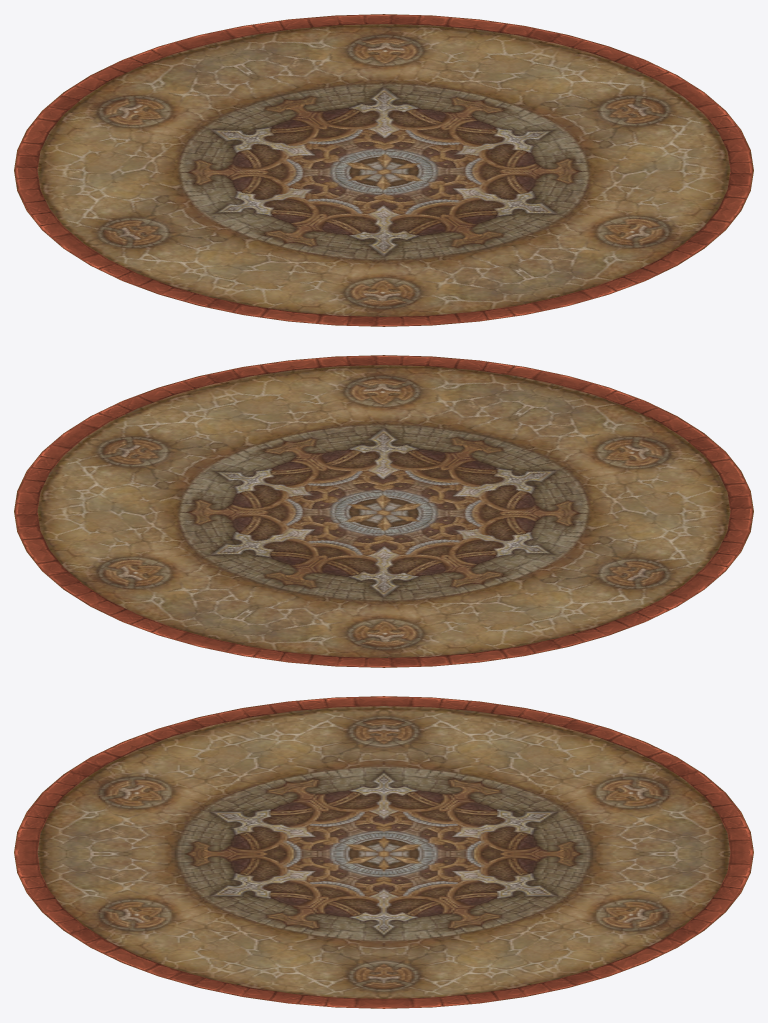
File: S_Build_City017_H2.FBX
3 views of the same model, one above another, from view 1: azimuth 30°, elevation 25°; view 2: azimuth 150°, elevation 25°; view 3: azimuth 270°, elevation 25° (orthographic).
Parts seen in each view (by area): view 1: S_Build_City017_H2; view 2: S_Build_City017_H2; view 3: S_Build_City017_H2.
Boxes of the visible parts, <box> form: S_Build_City017_H2: <box>14,14,753,326</box>; S_Build_City017_H2: <box>14,355,753,667</box>; S_Build_City017_H2: <box>14,696,753,1008</box>.
Bounding box in the file's own units: 327 × 327 × 0.6856.
2 materials, 2 textured.
